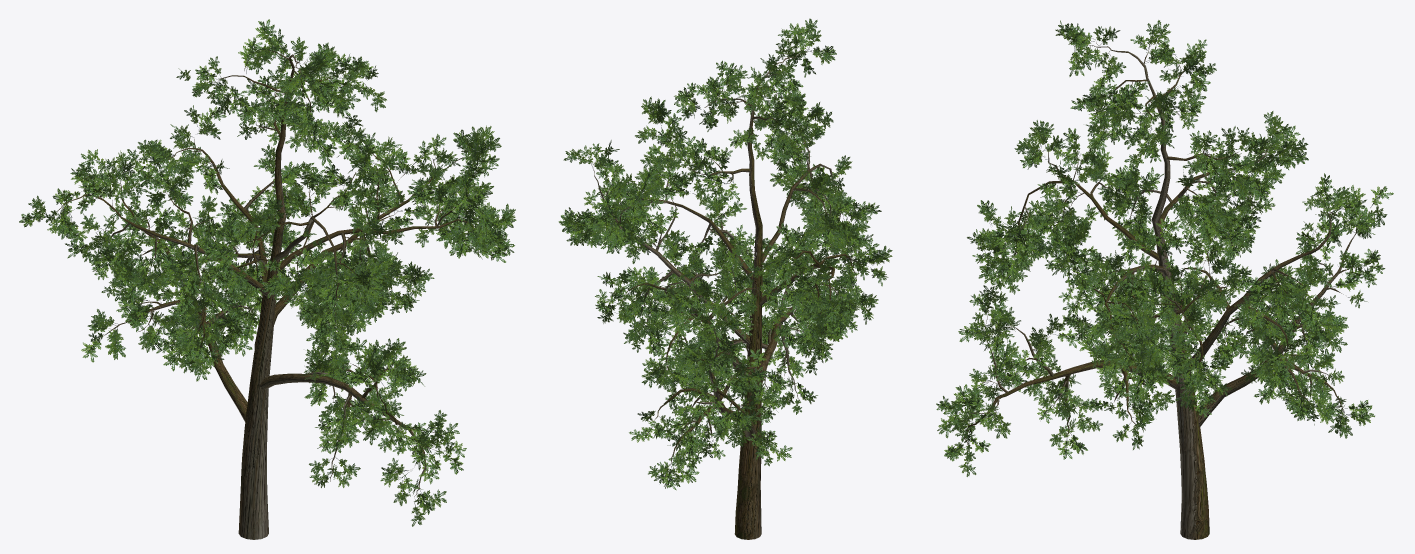
The model's file is tree (4).glb.
3 views of the same model, side by side, from view 1: azimuth 30°, elevation 25°; view 2: azimuth 150°, elevation 25°; view 3: azimuth 270°, elevation 25° (orthographic). The views are drawn at different scales.
Parts seen in each view (by area): view 1: Tree; view 2: Tree; view 3: Tree.
Boxes of the visible parts, x1,y1,x2,y2 form: Tree: (19,19,516,539); Tree: (558,18,892,539); Tree: (936,20,1393,539).
Bounding box in the file's own units: 65.78 × 77.33 × 64.11.
2 materials, 2 textured.
